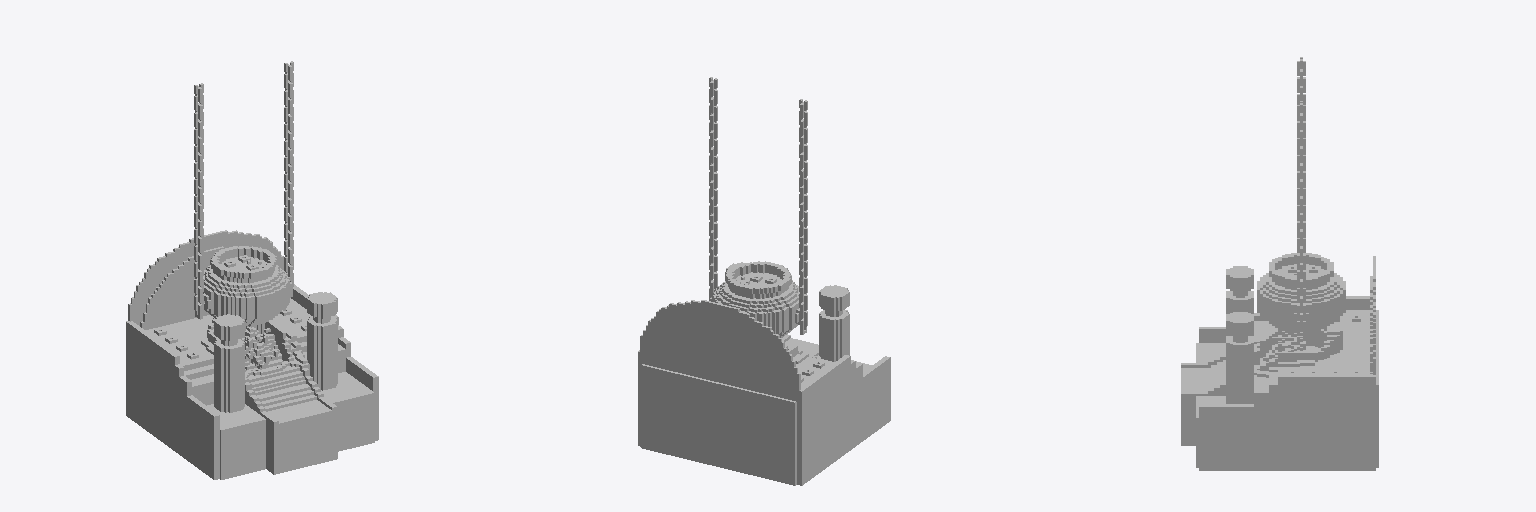
Rendered from map_which_6.obj.
3 views of the same model, side by side, from view 1: azimuth 30°, elevation 25°; view 2: azimuth 150°, elevation 25°; view 3: azimuth 270°, elevation 25° (orthographic).
Visible parts, largest first — view 1: map_which_6; view 2: map_which_6; view 3: map_which_6.
Boxes of the visible parts, box(x1,y1,x2,y2) form: map_which_6: box(126, 61, 378, 479); map_which_6: box(638, 77, 890, 485); map_which_6: box(1181, 57, 1378, 470).
Size of the model in its own units: 62 by 126 by 65.